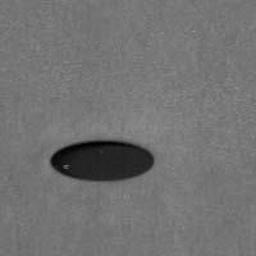Punching: (49, 140, 156, 182)
